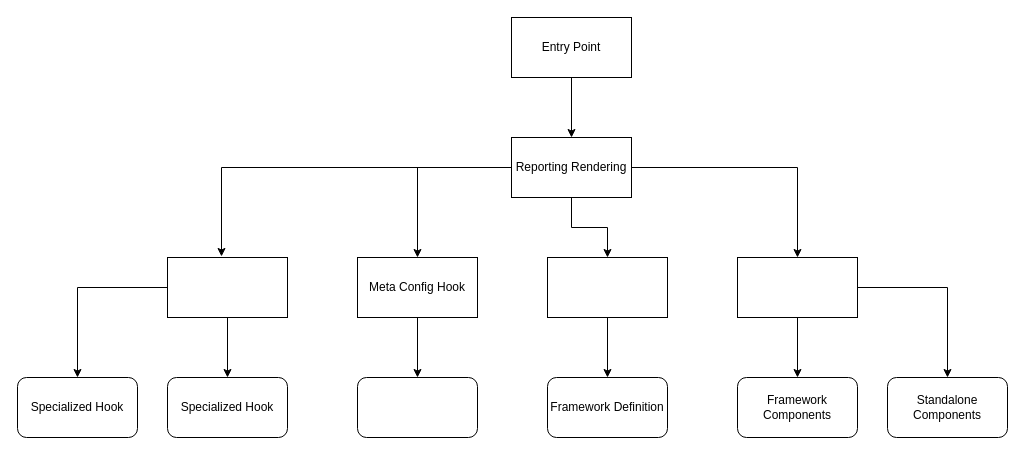
Some shapes in this 1025 by 455 pixel diagram are drawn without their labels. Each missing label, with the box of its shape:
Components: (736, 256, 858, 318)
Framework Config Hook: (546, 256, 668, 318)
Meta Definition: (356, 376, 478, 438)
Orchestrator Hook: (166, 256, 288, 318)
